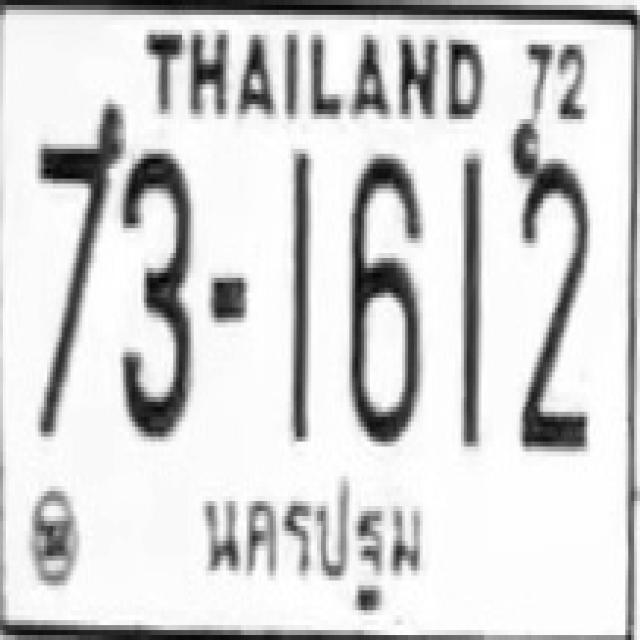1: (456, 149, 483, 446), (288, 149, 311, 441)
2: (515, 149, 589, 451)
3: (119, 144, 192, 436)
6: (346, 149, 423, 441)
7: (32, 99, 124, 437)
NakhonPathom: (195, 457, 427, 615)
